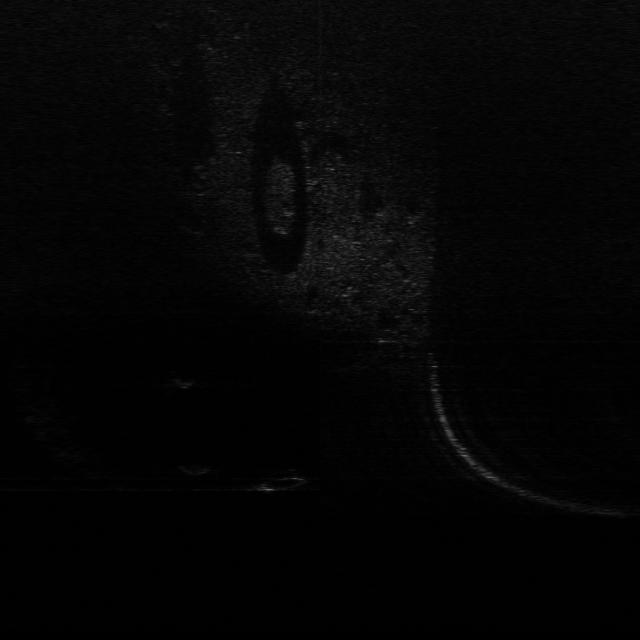cube: (176, 462, 213, 477)
square cage: (163, 374, 198, 392)
tyre: (250, 468, 310, 494)
